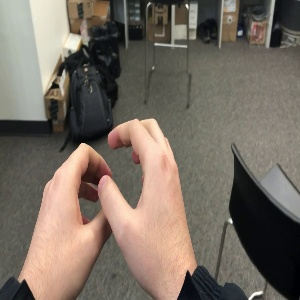hand: (98, 119, 196, 288), (28, 143, 128, 297)
